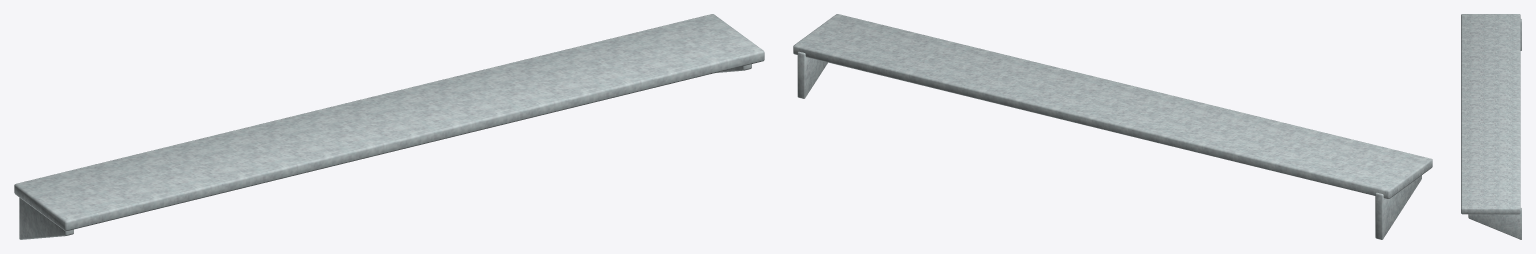
File: StallProp_J.fbx
The picture shows the model from 3 angles, left to right: view 1: azimuth 30°, elevation 25°; view 2: azimuth 150°, elevation 25°; view 3: azimuth 270°, elevation 25°; orthographic projection. The views are drawn at different scales.
Parts seen in each view (by area): view 1: StallProp_J; view 2: StallProp_J; view 3: StallProp_J.
Boxes of the visible parts, x1=… form: StallProp_J: x1=14, y1=14, x2=764, y2=239; StallProp_J: x1=793, y1=14, x2=1432, y2=239; StallProp_J: x1=1461, y1=14, x2=1521, y2=239.
Size of the model in its own units: 2.89 by 0.2318 by 0.3809.
